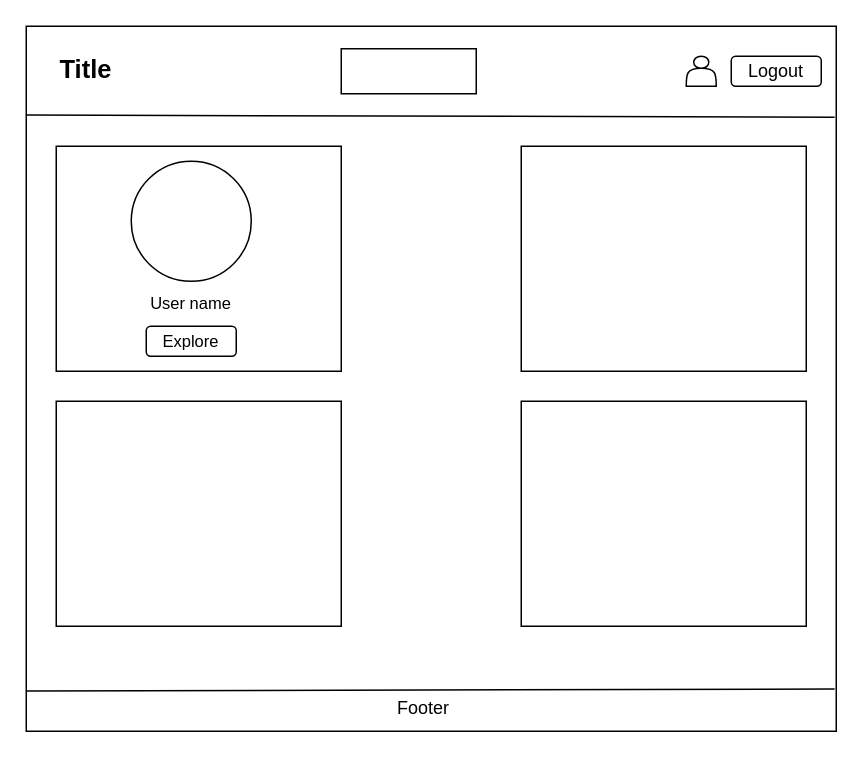
Some shapes in this 863 by 758 pixel diagram are drawn without their labels. Each missing label, with the centre of its shape:
"Add new place" belongs at (408,70).
"Image" belongs at (190,220).
